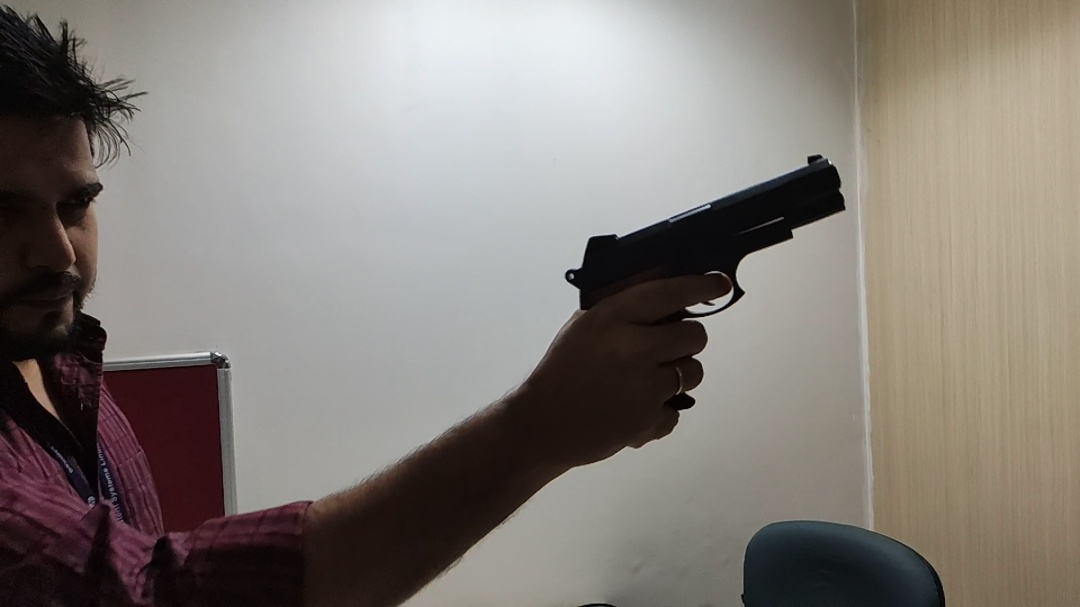gun: (563, 151, 851, 412)
